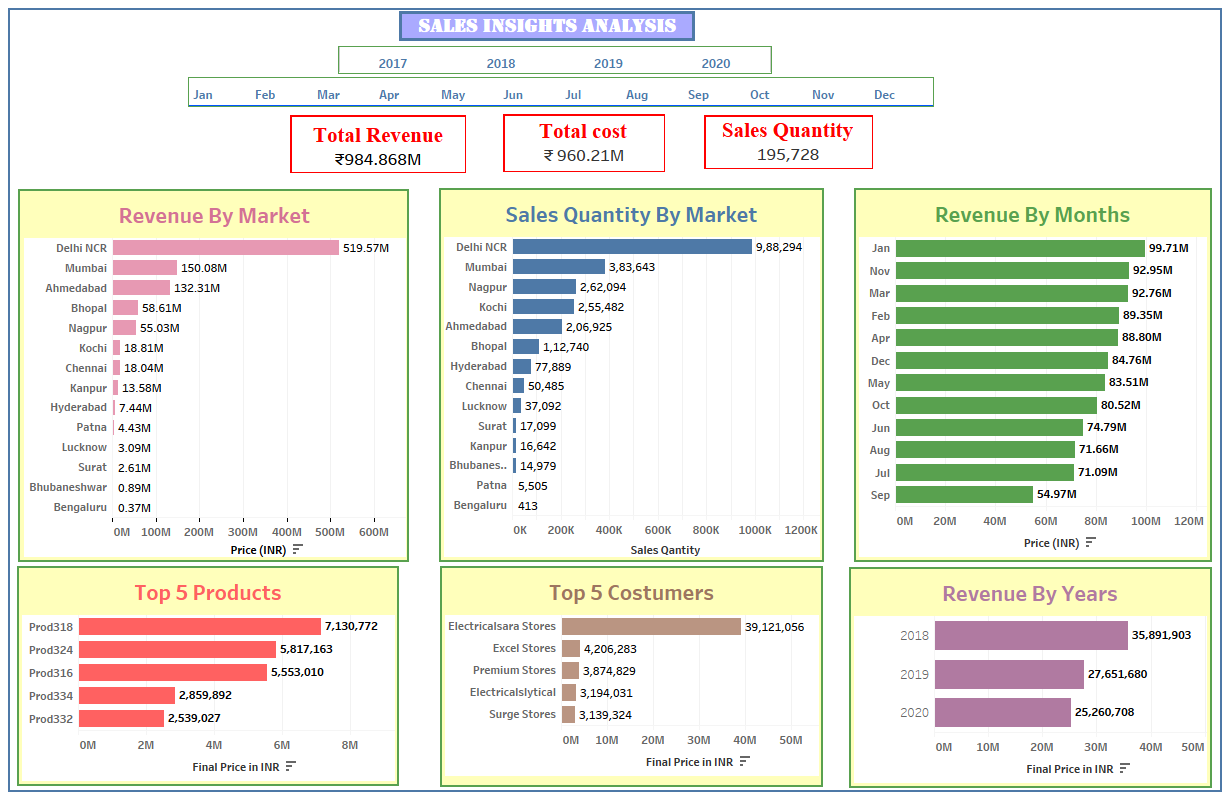

The dashboard page shown, as its layout file describes it:
{"tool":"tableau","page":{"name":"Sales  - Revenue","canvas":[1230,800],"ordinal":1},"visuals":[{"type":"image","box":[10,10,1210,780]},{"type":"text","box":[398.7,11,296.2,30]},{"type":"worksheet","title":"Year","mark":"Automatic","cols":["cy_date"],"box":[338,46,434,28]},{"type":"worksheet","title":"Month","mark":"Automatic","cols":["cy_date"],"box":[186.6,76,748.2,32]},{"type":"worksheet","title":"Total Cost","mark":"Automatic","box":[503,114,162,58]},{"type":"worksheet","title":"Revenue","mark":"Automatic","box":[290,115,176,58]},{"type":"worksheet","title":"Sales Quantity","mark":"Automatic","box":[704.2,115,169.1,54]},{"type":"worksheet","title":"Sales Quantity By Market","mark":"Automatic","rows":["markets_name"],"cols":["sales_qty"],"box":[438.7,188,385.3,374]},{"type":"worksheet","title":"Revenue By Months","mark":"Bar","rows":["cy_date"],"cols":["Calculation_613896927939850240"],"box":[854.5,188,357,374]},{"type":"worksheet","title":"Revenue By Market","mark":"Automatic","rows":["markets_name"],"cols":["Calculation_613896927939850240"],"box":[18.5,189,390.8,373]},{"type":"worksheet","title":"Top 5 Products","mark":"Automatic","rows":["product_code"],"cols":["Calculation_613896927939850240"],"box":[17.4,566,382.1,220]},{"type":"worksheet","title":"Top 5 Costumers","mark":"Automatic","rows":["custmer_name"],"cols":["Calculation_613896927939850240"],"box":[439.7,566,383.1,221]},{"type":"worksheet","title":"Revenue By Years","mark":"Bar","rows":["cy_date"],"cols":["Calculation_613896927939850240"],"box":[849,567,362.5,221]}]}

Visuals, with their boxes in screenshot pixels (x1, y1, x2, y2), scaled from the page's 1230x800 canvas onto the 1230x800 screenshot:
image: 10/10/1220/790
text: 399/11/695/41
"Year" worksheet: 338/46/772/74
"Month" worksheet: 187/76/935/108
"Total Cost" worksheet: 503/114/665/172
"Revenue" worksheet: 290/115/466/173
"Sales Quantity" worksheet: 704/115/873/169
"Sales Quantity By Market" worksheet: 439/188/824/562
"Revenue By Months" worksheet (Bar marks): 854/188/1212/562
"Revenue By Market" worksheet: 18/189/409/562
"Top 5 Products" worksheet: 17/566/400/786
"Top 5 Costumers" worksheet: 440/566/823/787
"Revenue By Years" worksheet (Bar marks): 849/567/1212/788
